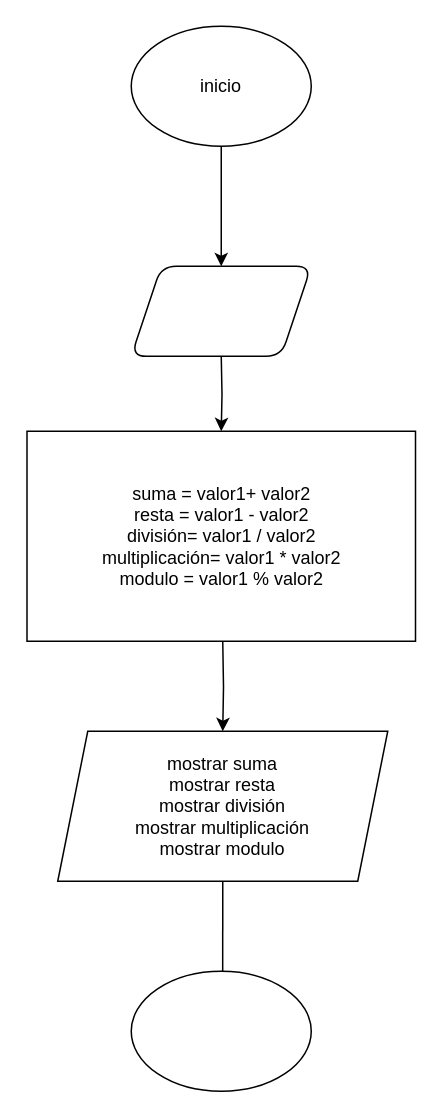
This 441x1118 diagram has some shape labels left out. Here are the shapes that lost their labels. From the top down, the box of each, then its label:
(130, 265, 311, 356): valor1 valor2
(130, 970, 311, 1091): Fin
